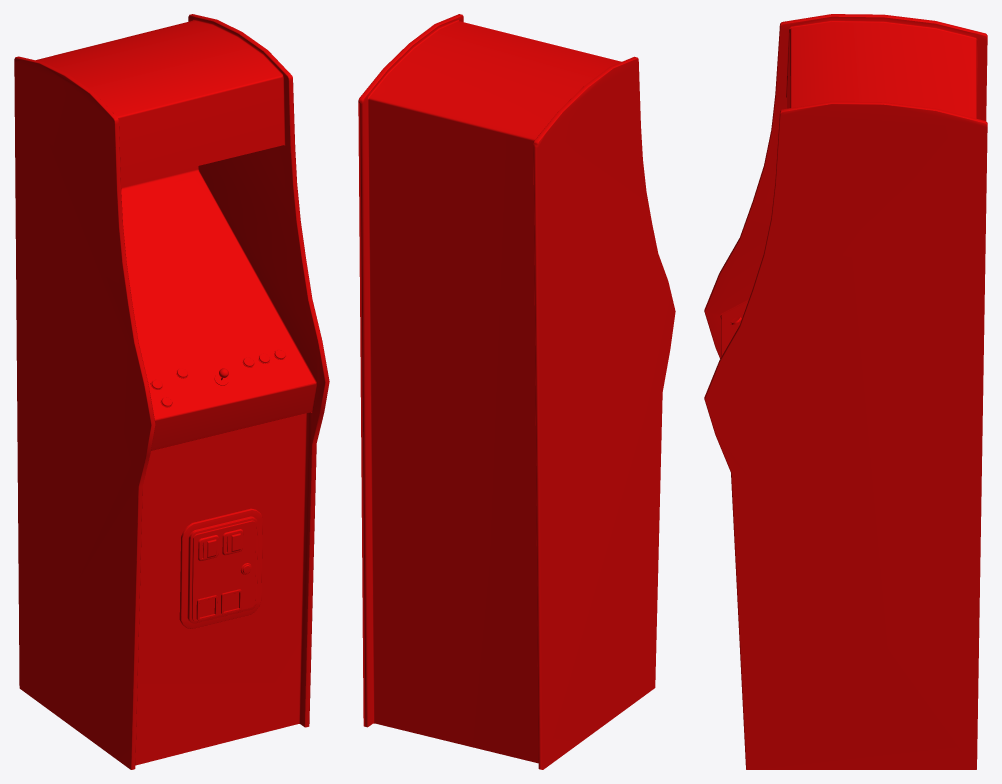
The model's file is pacman.fbx.
The picture shows the model from 3 angles, left to right: view 1: azimuth 30°, elevation 25°; view 2: azimuth 150°, elevation 25°; view 3: azimuth 270°, elevation 25°; orthographic projection. The views are drawn at different scales.
Visible parts, largest first — view 1: polySurface14; view 2: polySurface14; view 3: polySurface14.
Part boxes in pixels (x1,y1,x2,y2): polySurface14: [14, 14, 329, 769]; polySurface14: [358, 14, 675, 769]; polySurface14: [704, 14, 987, 769].
Bounding box in the file's own units: 63.1 × 218 × 84.03.
